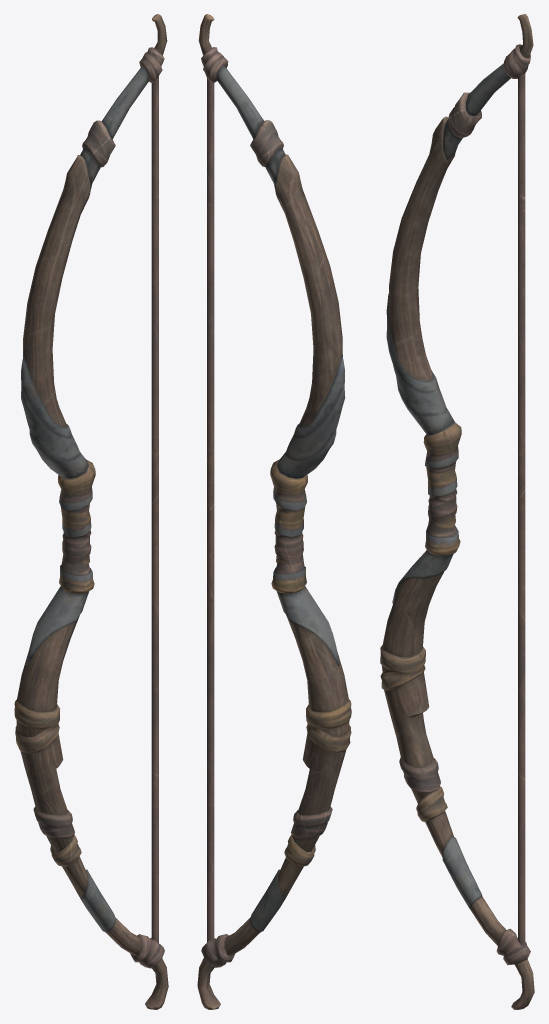
3 renders of one model, left to right at view 1: azimuth 30°, elevation 25°; view 2: azimuth 150°, elevation 25°; view 3: azimuth 330°, elevation 25°, orthographic.
Visible parts, largest first — view 1: SM_HuntersLongbow_OakWood_2H_01_LOD0; view 2: SM_HuntersLongbow_OakWood_2H_01_LOD0; view 3: SM_HuntersLongbow_OakWood_2H_01_LOD0.
Boxes of the visible parts, x1,y1,x2,y2 form: SM_HuntersLongbow_OakWood_2H_01_LOD0: (14, 14, 168, 1009); SM_HuntersLongbow_OakWood_2H_01_LOD0: (197, 14, 351, 1009); SM_HuntersLongbow_OakWood_2H_01_LOD0: (380, 14, 534, 1009).
Size of the model in its own units: 0.2896 by 1.83 by 0.0811.
1 material, 1 textured.
